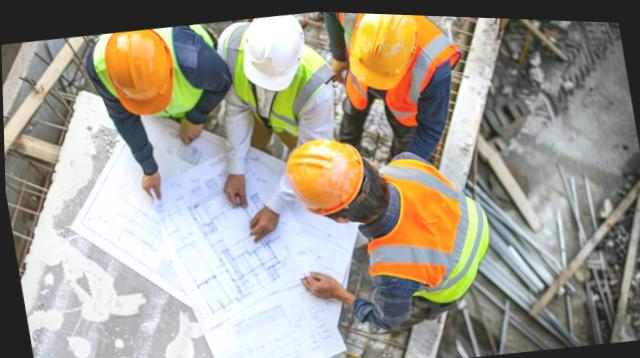helmet: (282, 130, 368, 216), (99, 23, 177, 116), (233, 8, 312, 93), (339, 10, 420, 90)
vest: (340, 141, 501, 315), (337, 10, 465, 133), (219, 13, 340, 141), (86, 16, 224, 125)
